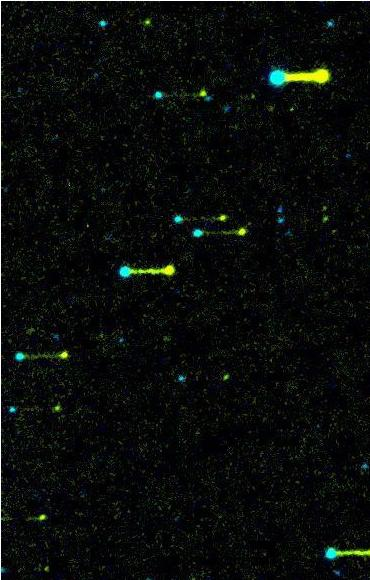star: (11, 321, 41, 351)
